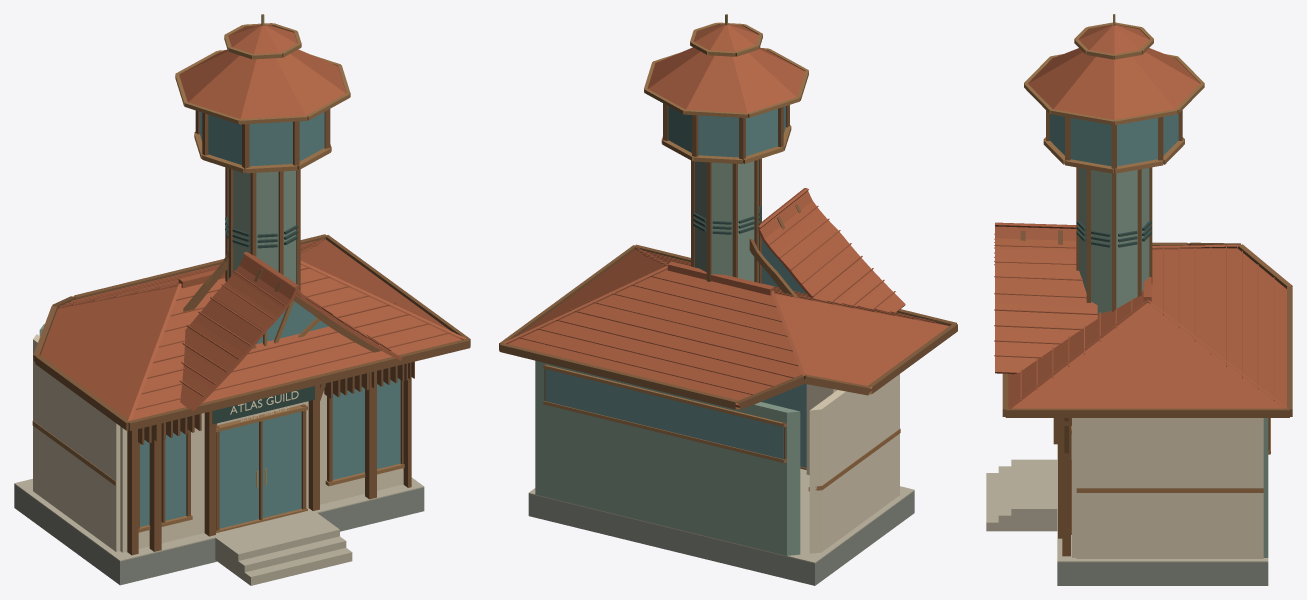
File: atlas-guild.glb
3 views of the same model, side by side, from view 1: azimuth 30°, elevation 25°; view 2: azimuth 150°, elevation 25°; view 3: azimuth 270°, elevation 25° (orthographic). The views are drawn at different scales.
Parts seen in each view (by area): view 1: Guild delivery 3 / S2A / terracotta 1, Guild delivery 4 / C1 / oiled timber, Guild delivery 10 / Guild / stylized blue-green glazing, Guild delivery 0 / S2A / warm lime plaster, Guild delivery 6 / S2A / terracotta 2, Guild delivery 15 / C1 / warm limestone, Guild delivery 14 / C1 / warm volcanic stone, Guild delivery 2 / S2A / cut timber edges, Guild delivery 1 / S2A / recessed sage plaster, Guild delivery 5 / S2A / terracotta 3, Guild delivery 9 / C1 / deep green metal, Guild delivery 8 / S2A / terracotta 0; view 2: Guild delivery 3 / S2A / terracotta 1, Guild delivery 1 / S2A / recessed sage plaster, Guild delivery 10 / Guild / stylized blue-green glazing, Guild delivery 0 / S2A / warm lime plaster, Guild delivery 6 / S2A / terracotta 2, Guild delivery 4 / C1 / oiled timber, Guild delivery 14 / C1 / warm volcanic stone, Guild delivery 2 / S2A / cut timber edges, Guild delivery 5 / S2A / terracotta 3, Guild delivery 15 / C1 / warm limestone, Guild delivery 8 / S2A / terracotta 0, Guild delivery 7 / S2A / terracotta 4 (+1 smaller); view 3: Guild delivery 3 / S2A / terracotta 1, Guild delivery 0 / S2A / warm lime plaster, Guild delivery 5 / S2A / terracotta 3, Guild delivery 6 / S2A / terracotta 2, Guild delivery 4 / C1 / oiled timber, Guild delivery 1 / S2A / recessed sage plaster, Guild delivery 15 / C1 / warm limestone, Guild delivery 14 / C1 / warm volcanic stone, Guild delivery 2 / S2A / cut timber edges, Guild delivery 10 / Guild / stylized blue-green glazing, Guild delivery 9 / C1 / deep green metal, Guild delivery 7 / S2A / terracotta 4.
Boxes of the visible parts, x1,y1,x2,y2 form: Guild delivery 3 / S2A / terracotta 1: (40,239,462,420); Guild delivery 4 / C1 / oiled timber: (33,109,470,555); Guild delivery 10 / Guild / stylized blue-green glazing: (140,112,400,528); Guild delivery 0 / S2A / warm lime plaster: (33,334,403,552); Guild delivery 6 / S2A / terracotta 2: (65,24,430,394); Guild delivery 15 / C1 / warm limestone: (14,477,424,585); Guild delivery 14 / C1 / warm volcanic stone: (14,484,424,585); Guild delivery 2 / S2A / cut timber edges: (32,23,404,532); Guild delivery 1 / S2A / recessed sage plaster: (39,168,296,422); Guild delivery 5 / S2A / terracotta 3: (57,236,466,421); Guild delivery 9 / C1 / deep green metal: (212,217,314,424); Guild delivery 8 / S2A / terracotta 0: (72,245,396,363); Guild delivery 3 / S2A / terracotta 1: (507,188,948,407); Guild delivery 1 / S2A / recessed sage plaster: (535,159,800,555); Guild delivery 10 / Guild / stylized blue-green glazing: (545,106,806,467); Guild delivery 0 / S2A / warm lime plaster: (806,374,899,553); Guild delivery 6 / S2A / terracotta 2: (537,24,914,386); Guild delivery 4 / C1 / oiled timber: (499,103,957,463); Guild delivery 14 / C1 / warm volcanic stone: (528,491,914,585); Guild delivery 2 / S2A / cut timber edges: (543,22,900,491); Guild delivery 5 / S2A / terracotta 3: (503,188,951,394); Guild delivery 15 / C1 / warm limestone: (528,468,914,563); Guild delivery 8 / S2A / terracotta 0: (569,254,874,366); Guild delivery 7 / S2A / terracotta 4: (588,243,853,351); Guild delivery 3 / S2A / terracotta 1: (994,223,1286,408); Guild delivery 0 / S2A / warm lime plaster: (1072,418,1263,558); Guild delivery 5 / S2A / terracotta 3: (994,222,1286,408); Guild delivery 6 / S2A / terracotta 2: (994,24,1258,389); Guild delivery 4 / C1 / oiled timber: (1002,110,1292,556); Guild delivery 1 / S2A / recessed sage plaster: (1079,168,1268,557); Guild delivery 15 / C1 / warm limestone: (986,434,1268,562); Guild delivery 14 / C1 / warm volcanic stone: (1057,562,1268,585); Guild delivery 2 / S2A / cut timber edges: (1024,22,1270,534); Guild delivery 10 / Guild / stylized blue-green glazing: (1049,114,1178,166); Guild delivery 9 / C1 / deep green metal: (1076,220,1151,247); Guild delivery 7 / S2A / terracotta 4: (994,247,1211,354).
Bounding box in the file's own units: 9.49 × 13.38 × 7.33.
